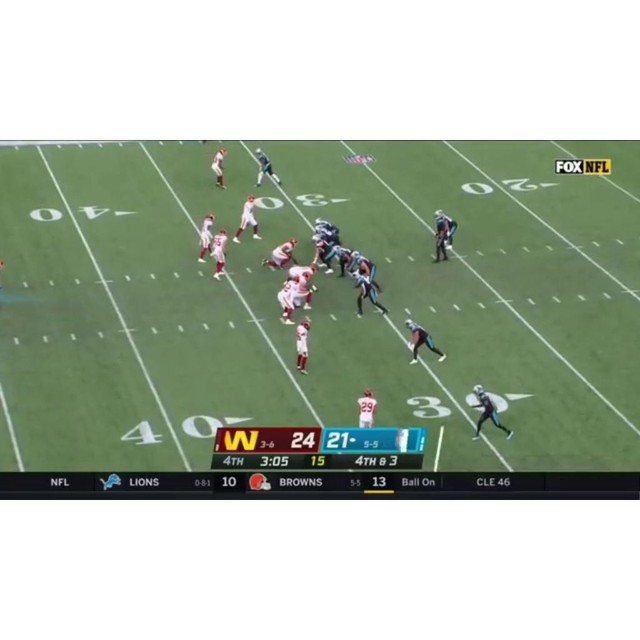american-football-player: (469, 384, 514, 441), (405, 318, 446, 364), (350, 269, 388, 317), (234, 194, 263, 242), (432, 209, 457, 260), (262, 237, 299, 271), (276, 275, 300, 325), (254, 147, 282, 188), (310, 233, 336, 274), (294, 318, 312, 374), (210, 228, 229, 280), (197, 212, 216, 263), (350, 251, 379, 284), (357, 387, 378, 428), (330, 244, 355, 278), (211, 148, 228, 189)
